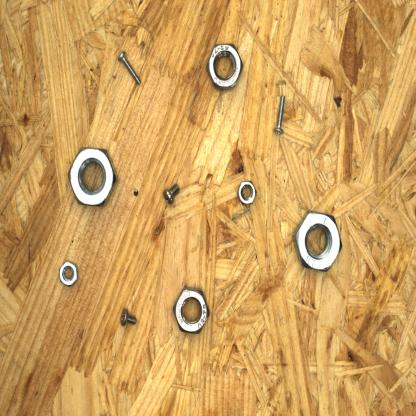screw: (115, 48, 145, 88), (270, 93, 290, 137), (160, 180, 184, 209), (117, 306, 140, 329)
